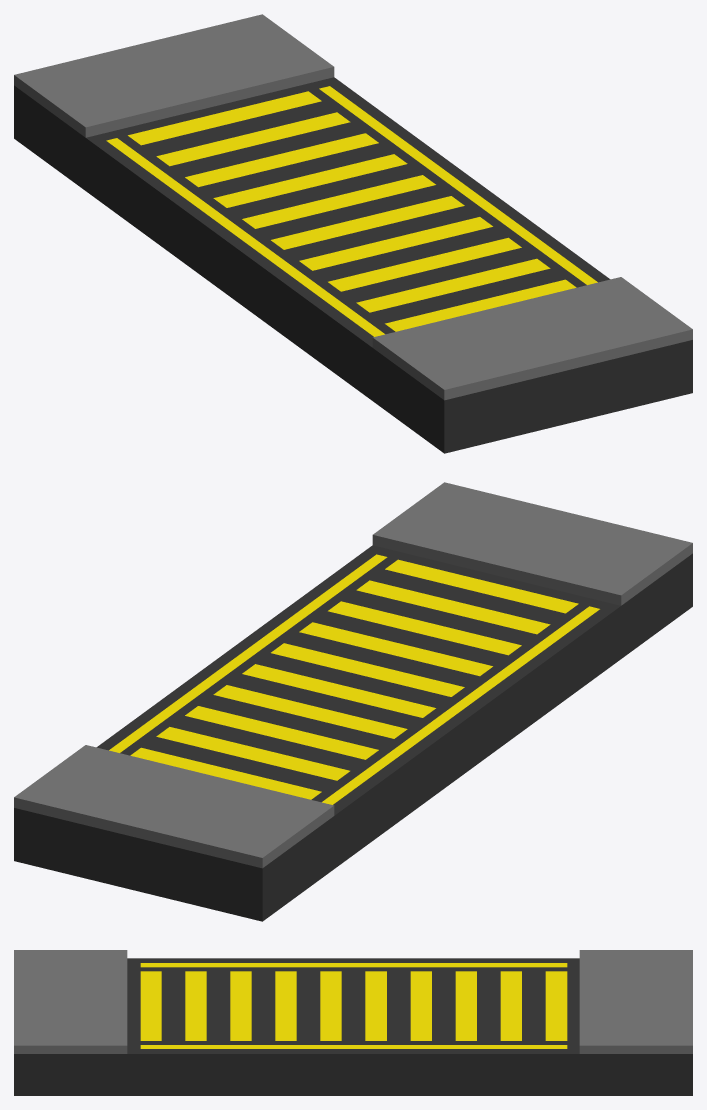
The model's file is Cargo_Road_Sidewalk.fbx.
The picture shows the model from 3 angles, top to bottom: view 1: azimuth 30°, elevation 25°; view 2: azimuth 150°, elevation 25°; view 3: azimuth 270°, elevation 25°; orthographic projection. The views are drawn at different scales.
Visible parts, largest first — view 1: Cargo_Road__3_Seritli_Sidewalk.001; view 2: Cargo_Road__3_Seritli_Sidewalk.001; view 3: Cargo_Road__3_Seritli_Sidewalk.001.
Part boxes in pixels (x1=…): Cargo_Road__3_Seritli_Sidewalk.001: x1=14, y1=14, x2=692, y2=453; Cargo_Road__3_Seritli_Sidewalk.001: x1=14, y1=482, x2=692, y2=921; Cargo_Road__3_Seritli_Sidewalk.001: x1=14, y1=950, x2=692, y2=1095.
Bounding box in the file's own units: 500 × 123 × 1500.
